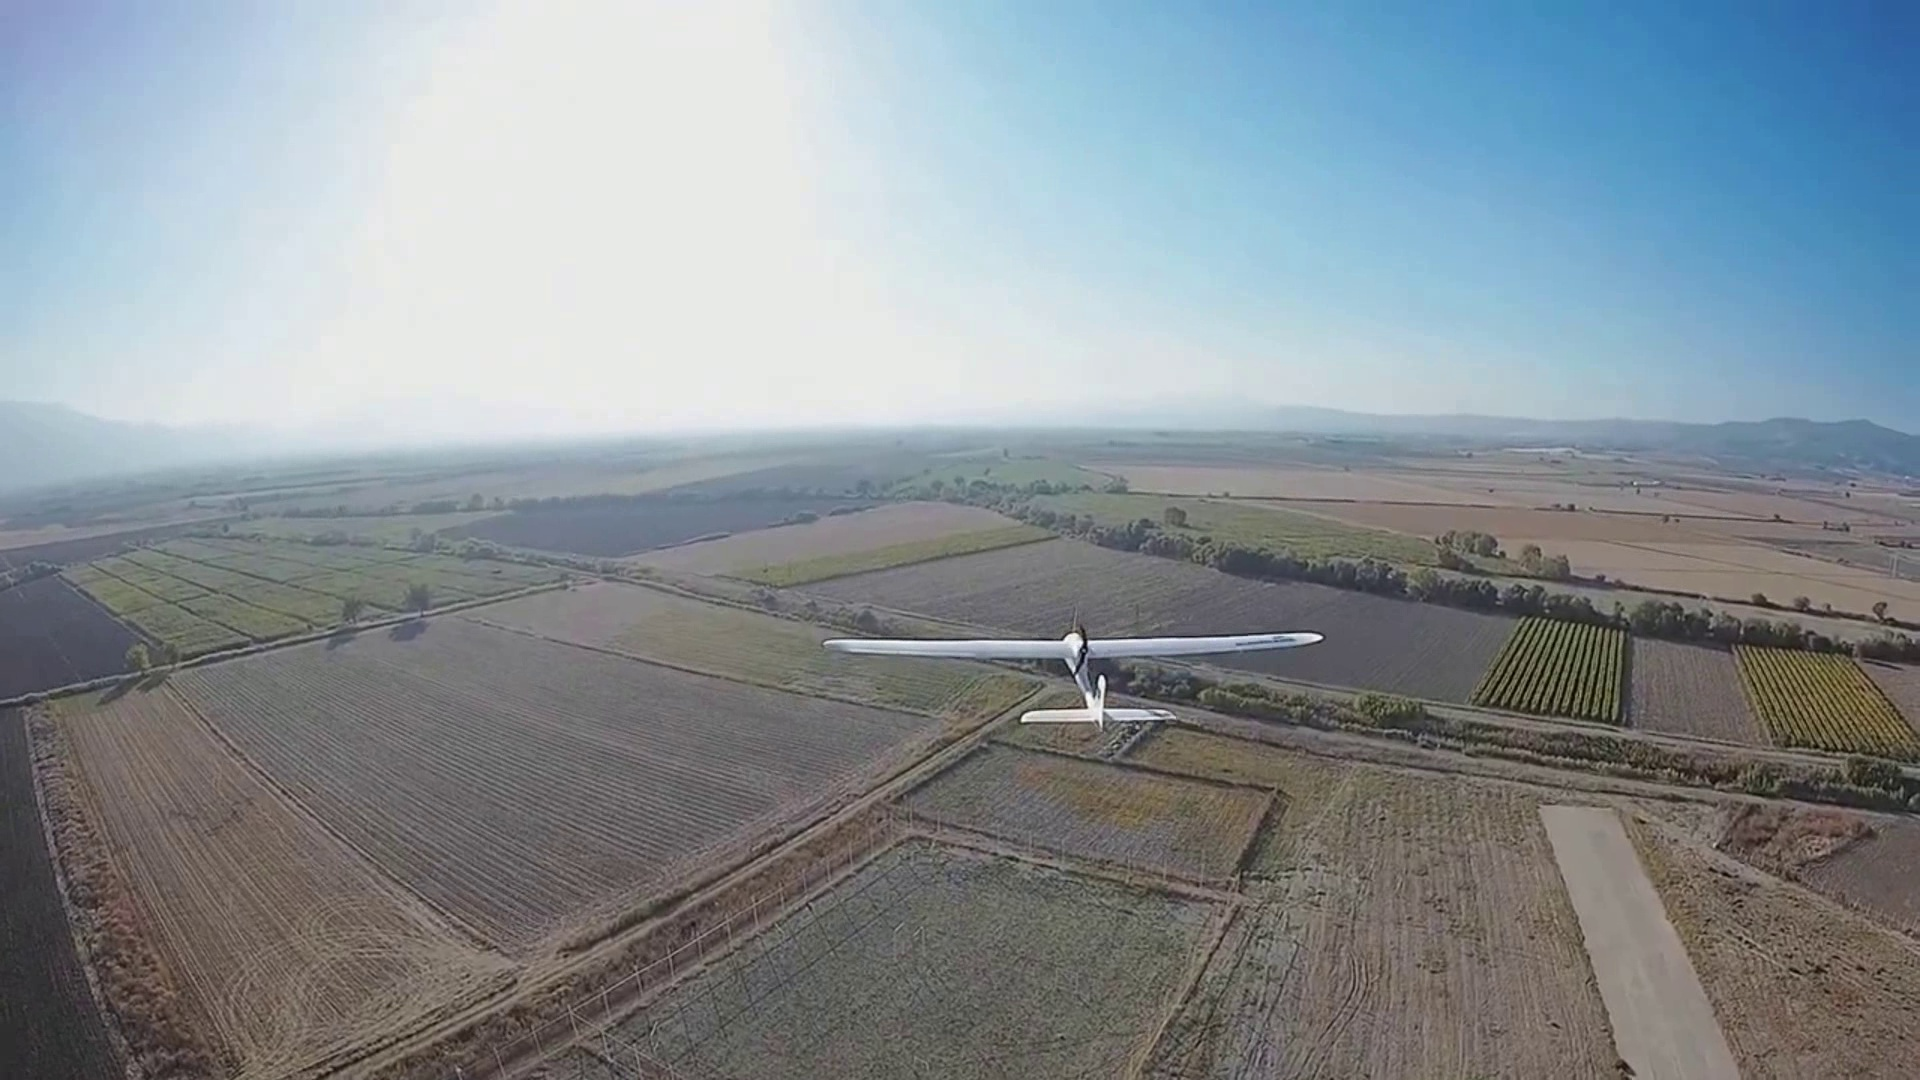airplane: (822, 617, 1325, 735)
